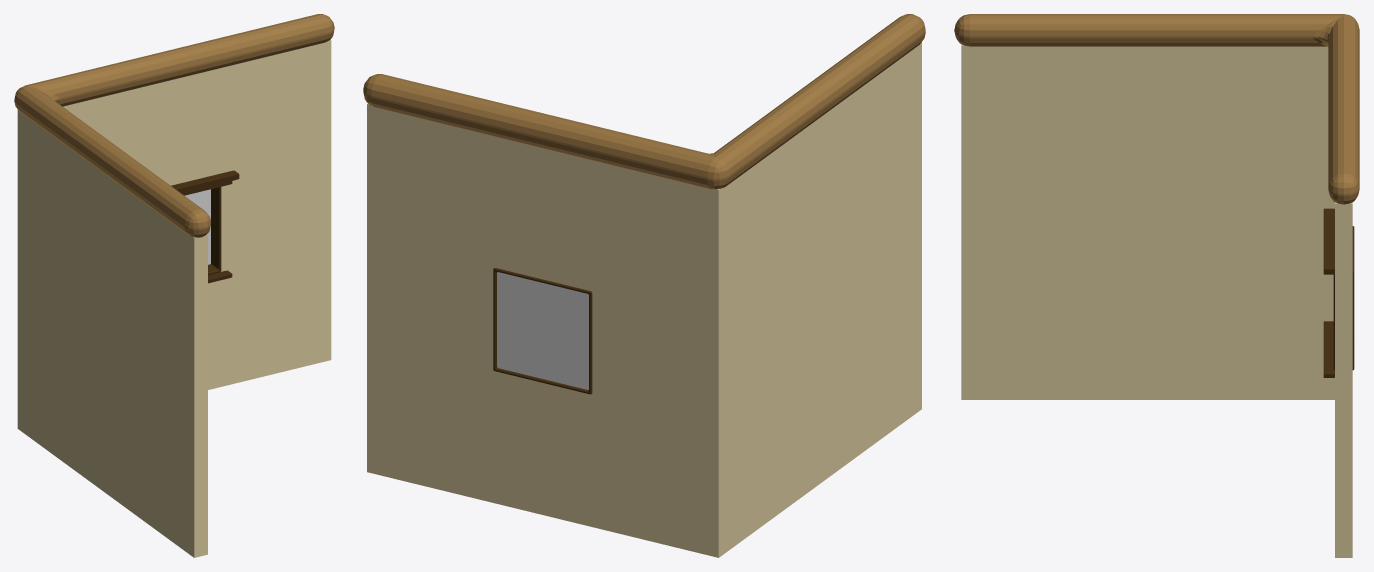
The model's file is CornerWallwithouttBrick02.fbx.
The picture shows the model from 3 angles, left to right: view 1: azimuth 30°, elevation 25°; view 2: azimuth 150°, elevation 25°; view 3: azimuth 270°, elevation 25°; orthographic projection. The views are drawn at different scales.
Parts seen in each view (by area): view 1: CornerWall-Window02.001; view 2: CornerWall-Window02.001; view 3: CornerWall-Window02.001.
Part boxes in pixels (left/top/right/bottom): CornerWall-Window02.001: left=14, top=14, right=334, bottom=557; CornerWall-Window02.001: left=363, top=14, right=925, bottom=557; CornerWall-Window02.001: left=954, top=14, right=1359, bottom=557.
Size of the model in its own units: 207 by 215 by 207.
